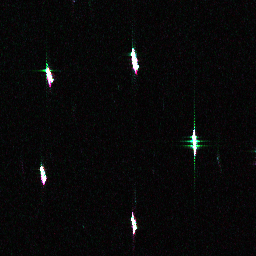ship: (128, 46, 141, 73), (37, 164, 49, 186), (42, 65, 55, 84), (127, 213, 139, 232), (190, 134, 198, 151)
